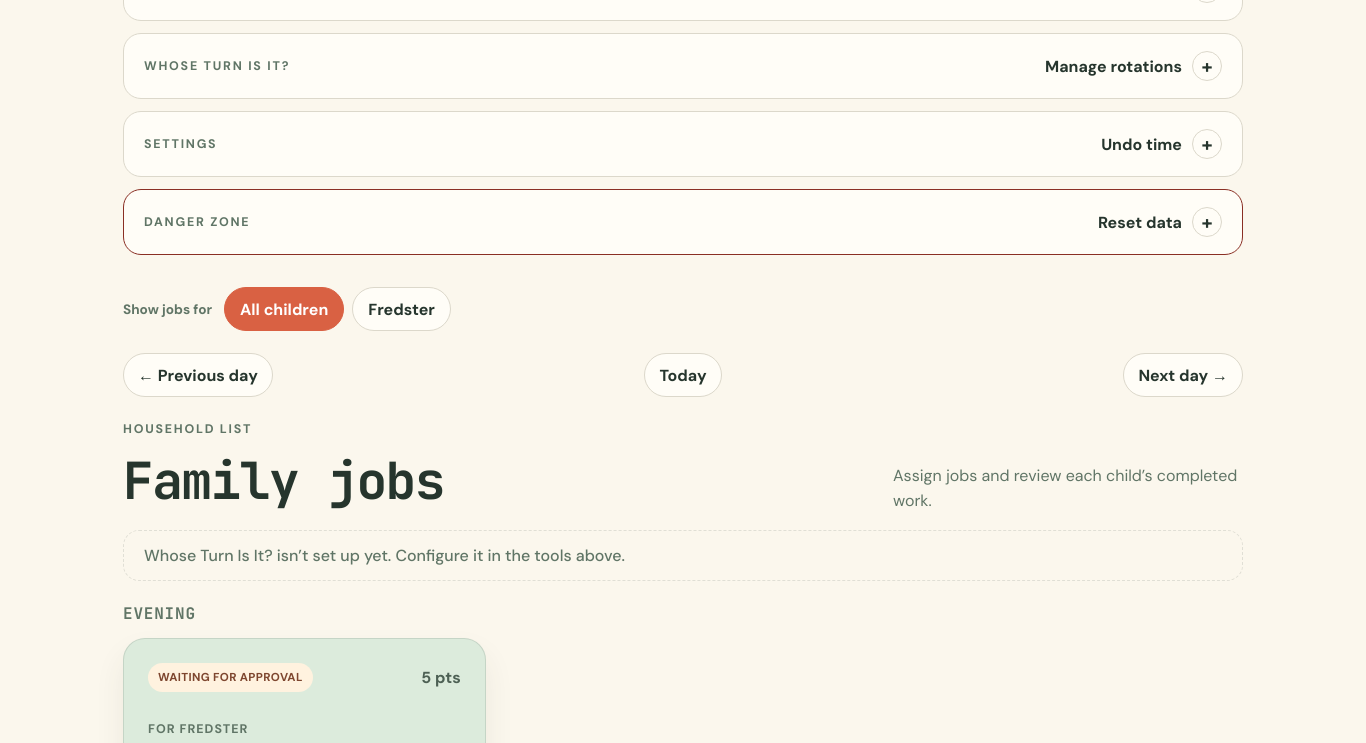
Test: undoable actions › follows an undo time another device saved once the board reloads
(page scrolled)
Click the link "Next day →": (1183, 375) [1123, 353, 1243, 397]
(page scrolled)
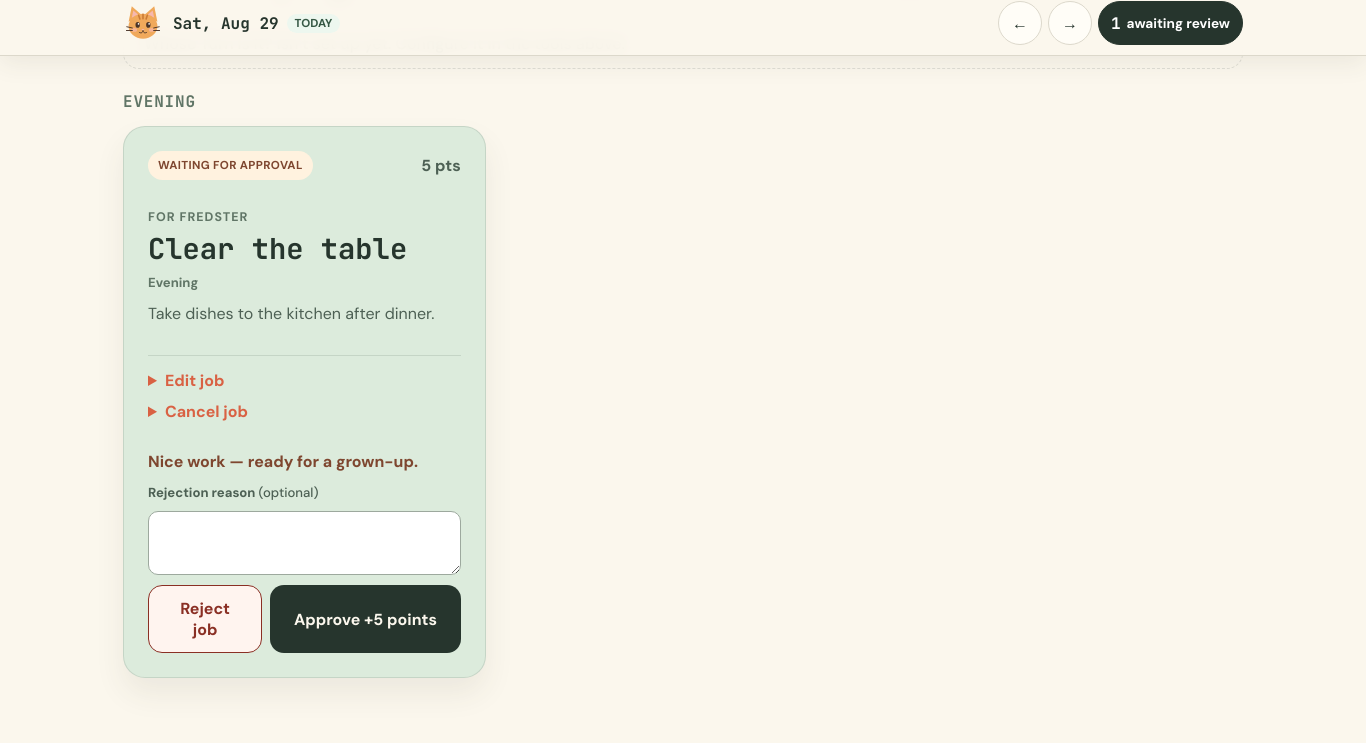
Click the button "Approve +5 points": (365, 619) [270, 585, 461, 653]
(page scrolled)
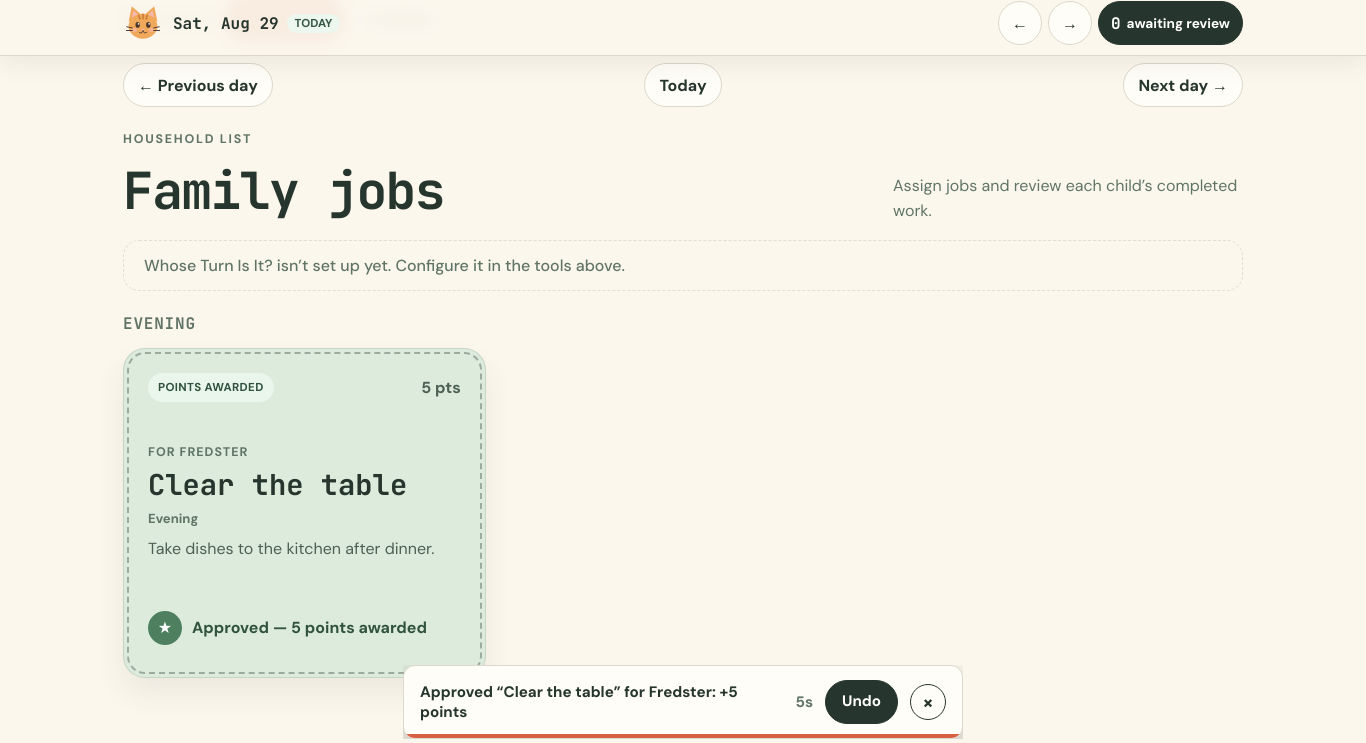
Expected: the text "Approved — 5 points awarded" is shown, [148, 603, 461, 653]
Expected: the text "5s" is shown, [796, 692, 813, 712]
